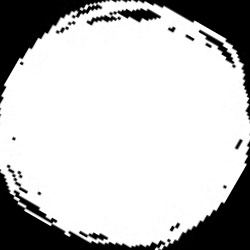spot: (1, 3, 249, 248)
